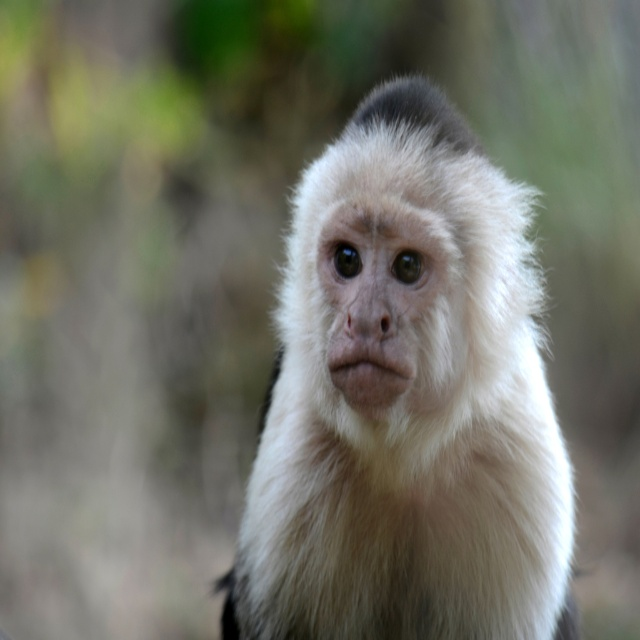Monkey: (196, 64, 593, 640)
